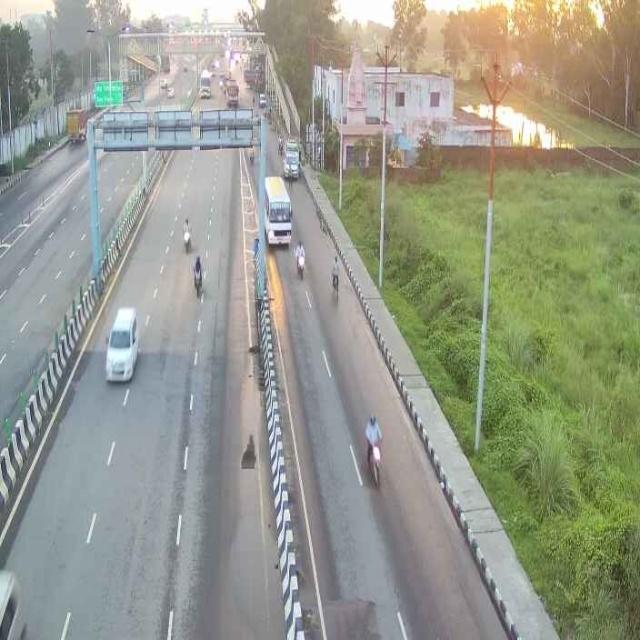car: (100, 300, 144, 387)
